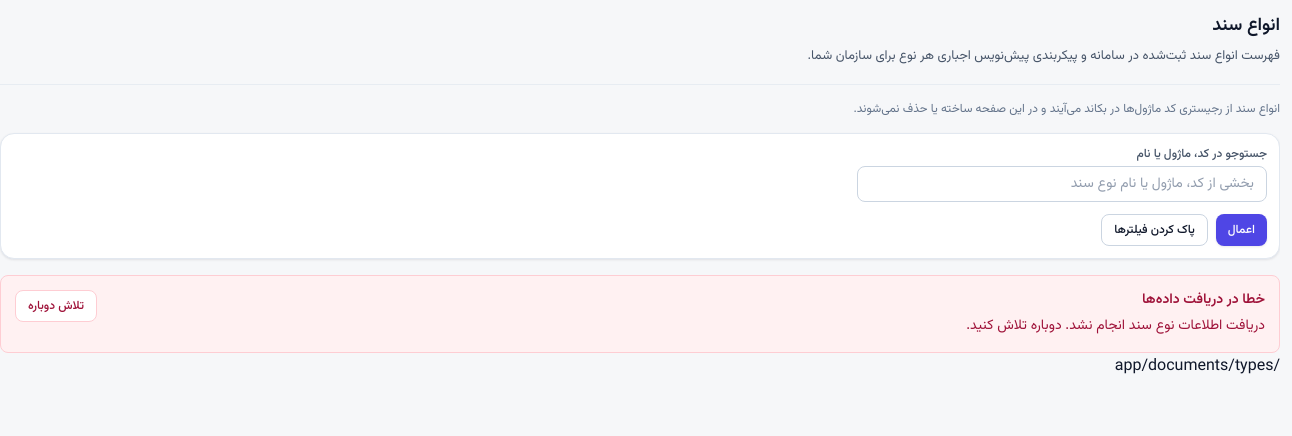
Test: DocumentTypesPage › shows the failure with a working retry
Expected: the text "دریافت اطلاعات نوع سند انجام نشد. دوباره تلاش کنید." is shown, left=966, top=314, right=1265, bottom=338
Click the button "تلاش دوباره": {"x": 56, "y": 306} left=15, top=290, right=97, bottom=322
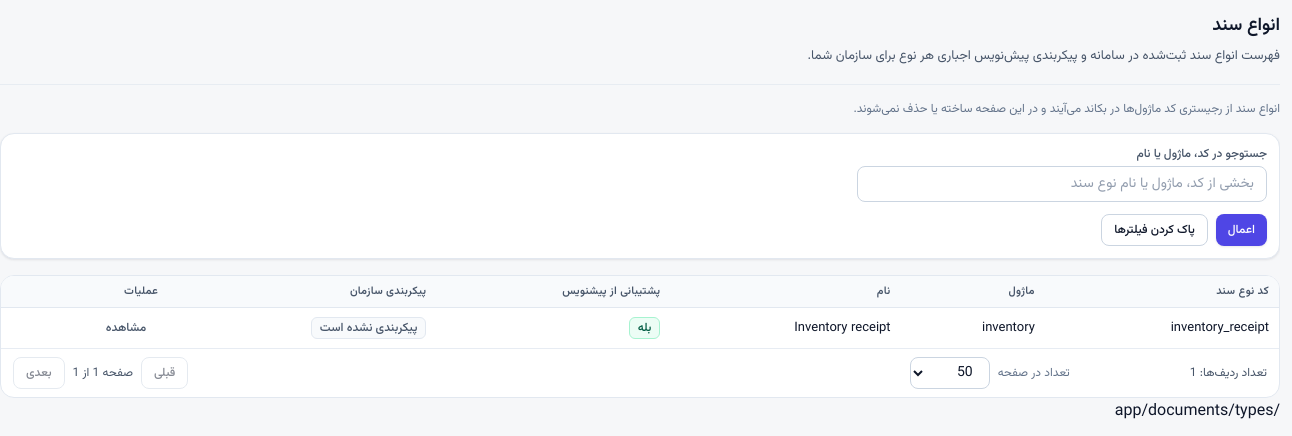
Result: the text "inventory_receipt" is shown at left=1171, top=318, right=1269, bottom=338
